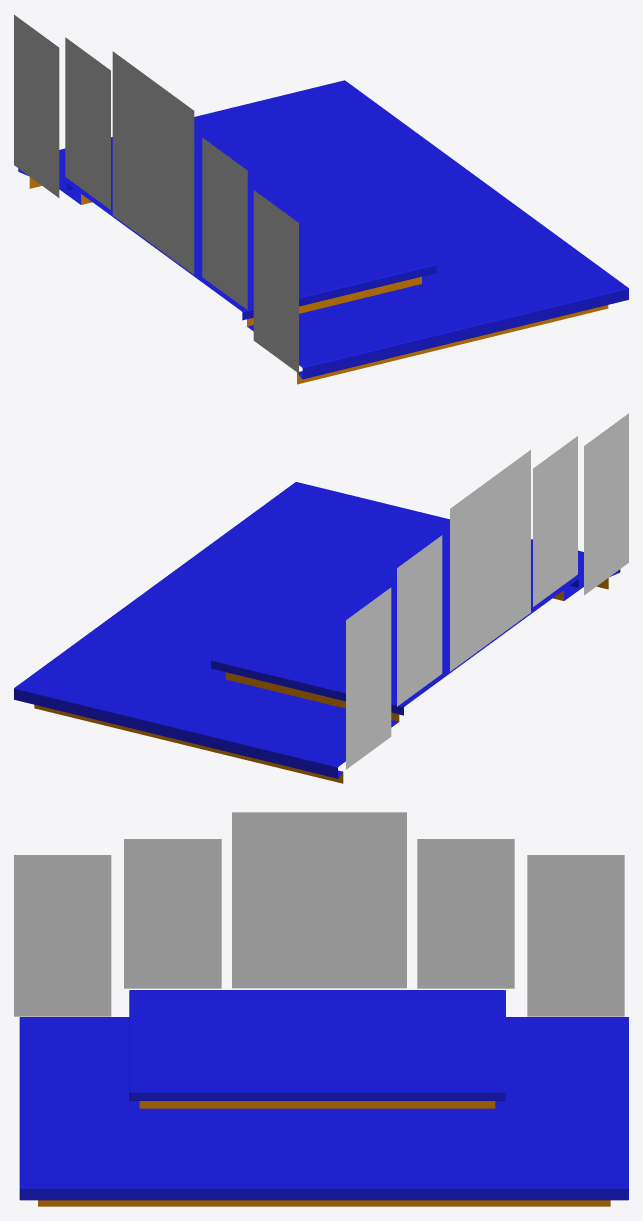
The model's file is RectangleStage.fbx.
3 views of the same model, one above another, from view 1: azimuth 30°, elevation 25°; view 2: azimuth 150°, elevation 25°; view 3: azimuth 270°, elevation 25° (orthographic). The views are drawn at different scales.
Parts seen in each view (by area): view 1: StageMain.002, Plane; view 2: StageMain.002, Plane; view 3: StageMain.002, Plane.
Part boxes in pixels (x1,y1,x2,y2): StageMain.002: [18, 80, 628, 384]; Plane: [14, 15, 298, 373]; StageMain.002: [14, 482, 620, 783]; Plane: [346, 413, 628, 769]; StageMain.002: [19, 990, 628, 1206]; Plane: [14, 812, 624, 1016].
Size of the model in its own units: 1982 by 1186 by 2933.
